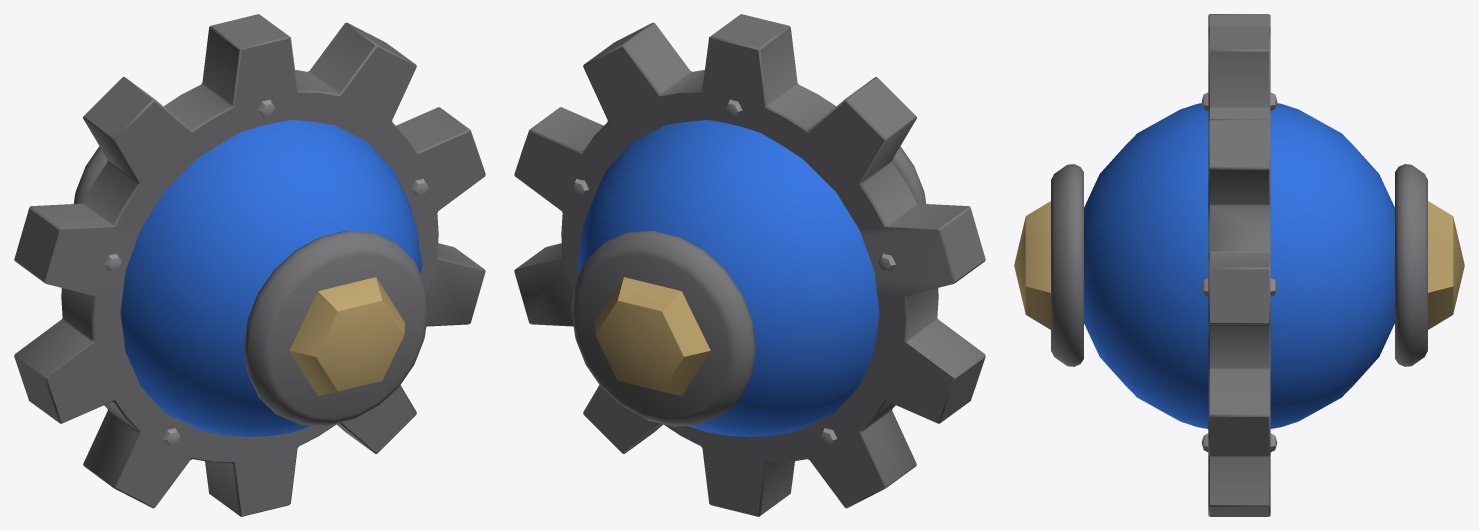
File: Kit_Joint_Motor.glb
3 views of the same model, side by side, from view 1: azimuth 30°, elevation 25°; view 2: azimuth 150°, elevation 25°; view 3: azimuth 270°, elevation 25° (orthographic). The views are drawn at different scales.
Visible parts, largest first — view 1: Kit_Joint_Motor; view 2: Kit_Joint_Motor; view 3: Kit_Joint_Motor.
Part boxes in pixels (left/top/right/bottom): Kit_Joint_Motor: left=14, top=14, right=485, bottom=516; Kit_Joint_Motor: left=514, top=14, right=985, bottom=516; Kit_Joint_Motor: left=1014, top=14, right=1464, bottom=516.
Bounding box in the file's own units: 2.54 × 2.58 × 2.32.
